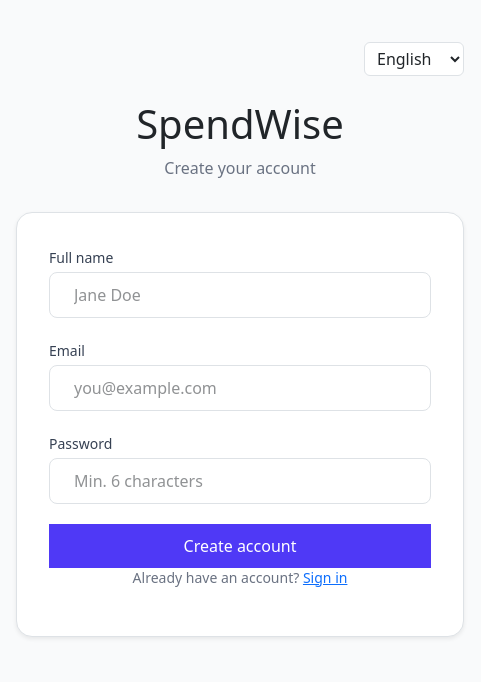
Scenario: RegisterPage › shows the backend error inline when registration fails
The image size is (481, 682).
Step 1. Type "a@b.com" into the field with placeholder "you@example.com" → {"x": 240, "y": 388}, box [49,364,431,410]
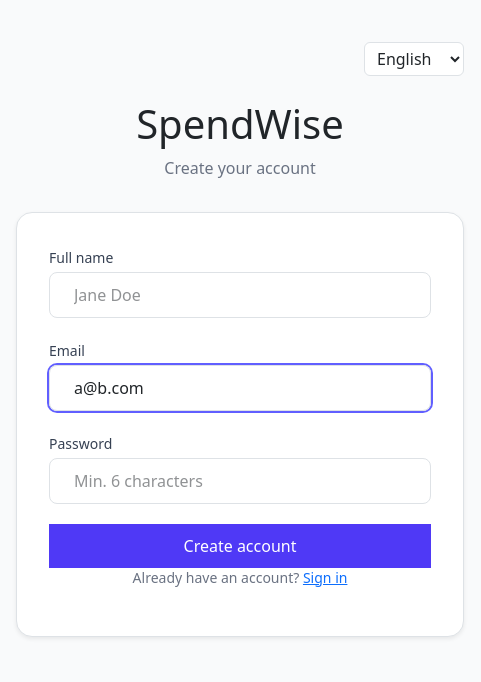
Step 2. Type "secret1" into the password field with placeholder "Min. 6 characters" → {"x": 240, "y": 480}, box [49,458,431,504]
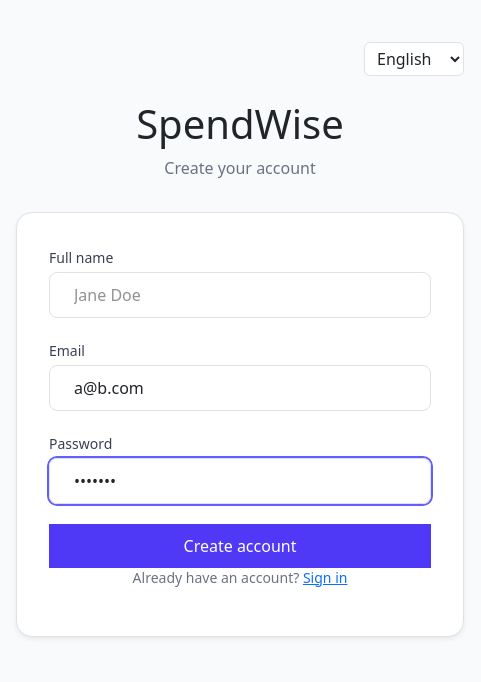
Step 3. Click the button "Create account" → {"x": 240, "y": 546}, box [49,524,431,568]
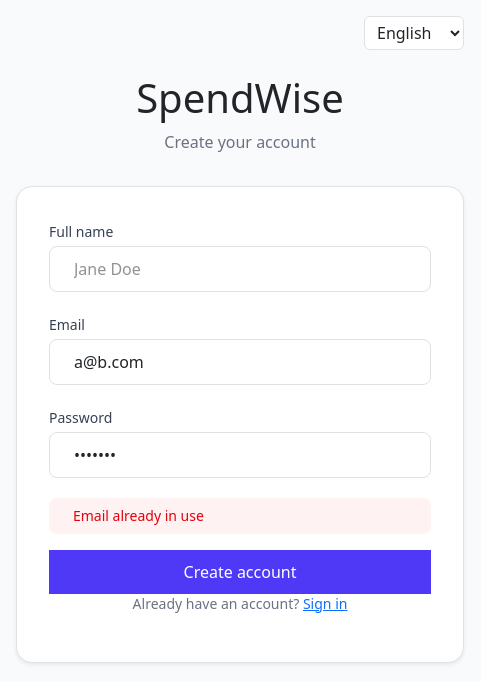
Check: the text "Email already in use" is shown, box [49,498,431,534]
